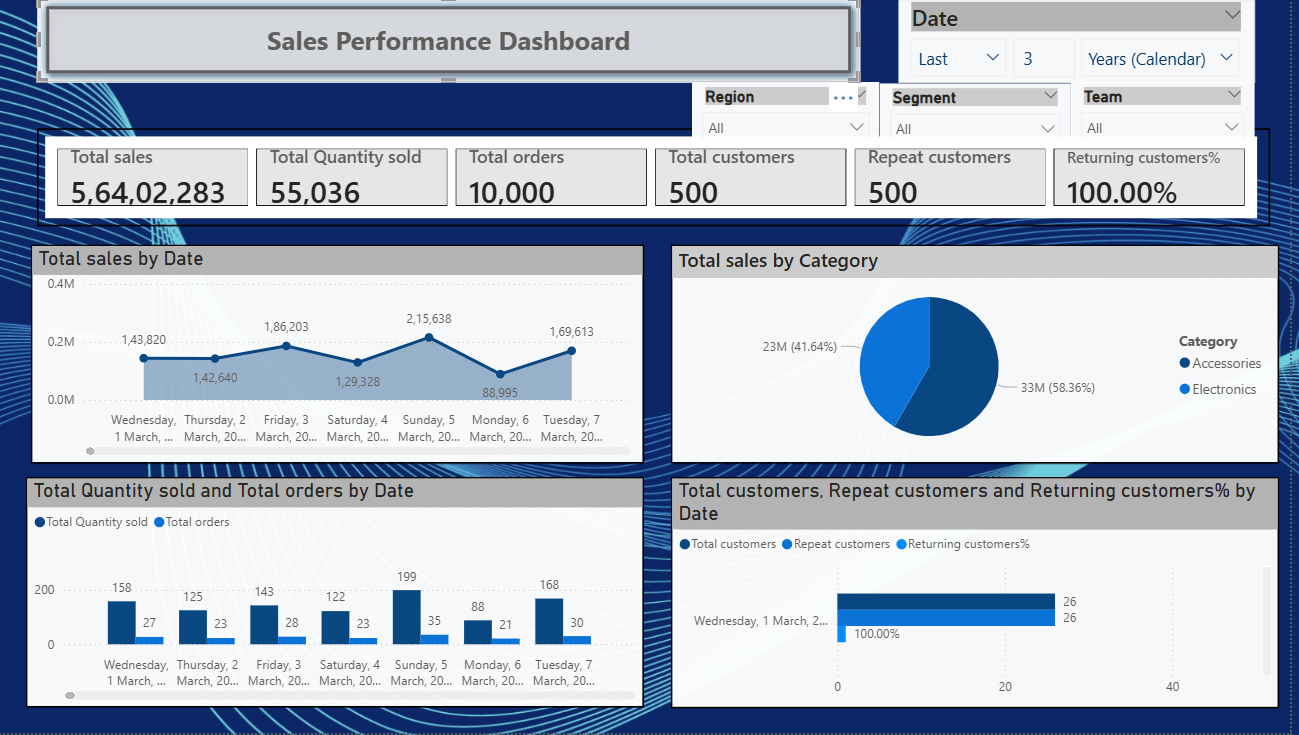

What the dashboard file says about the page in this screenshot:
{"tool":"powerbi","page":{"name":"Summary","canvas":[1280,720],"ordinal":0},"visuals":[{"type":"cardVisual","fields":{"Data":["_ All Measures.Total sales","_ All Measures.Total Quantity sold","_ All Measures.Total orders","_ All Measures.Total customers","_ All Measures.Repeat customers","_ All Measures.Returning customers%"]},"box":[53.5,129,1206.2,96.1],"z":0},{"type":"clusteredBarChart","fields":{"Category":["Calendar.Date"],"Y":["_ All Measures.Total customers","_ All Measures.Repeat customers","_ All Measures.Returning customers%"]},"box":[673.8,469.3,595.5,226.4],"z":1000},{"type":"slicer","fields":{"Values":["Calendar.Date"]},"box":[896.3,0,348.5,84.4],"z":2000},{"type":"clusteredColumnChart","fields":{"Category":["Calendar.Date"],"Y":["_ All Measures.Total Quantity sold","_ All Measures.Total orders"]},"box":[42.9,469.7,604.6,225.6],"z":3000},{"type":"slicer","fields":{"Values":["SalesData.Region"]},"box":[694.6,83.2,183.4,55],"z":4000},{"type":"lineChart","fields":{"Category":["Calendar.Date"],"Y":["_ All Measures.Total sales"]},"box":[48,241.5,599.7,214.1],"z":5000},{"type":"slicer","fields":{"Values":["SalesData.Team"]},"box":[1064.8,83.7,179.8,54.9],"z":6000},{"type":"slicer","fields":{"Values":["SalesData.Segment"]},"box":[878,84.4,187.1,53.8],"z":7000},{"type":"actionButton","box":[53.5,0,805.5,83.7],"z":8000},{"type":"pieChart","fields":{"Y":["_ All Measures.Total sales"],"Category":["SalesData.Category"]},"box":[673.8,241.5,595.5,214.1],"z":9000}]}

Visuals, with their boxes in screenshot pixels (x1, y1, x2, y2), scaled from the page's 1280x720 canvas onto the 1299x735 screenshot:
cardVisual - _ All Measures.Total sales x _ All Measures.Total Quantity sold: (left=54, top=132, right=1278, bottom=230)
clusteredBarChart - Calendar.Date x _ All Measures.Total customers: (left=684, top=479, right=1288, bottom=710)
slicer - Calendar.Date: (left=910, top=0, right=1263, bottom=86)
clusteredColumnChart - Calendar.Date x _ All Measures.Total Quantity sold: (left=44, top=479, right=657, bottom=710)
slicer - SalesData.Region: (left=705, top=85, right=891, bottom=141)
lineChart - Calendar.Date x _ All Measures.Total sales: (left=49, top=247, right=657, bottom=465)
slicer - SalesData.Team: (left=1081, top=85, right=1263, bottom=141)
slicer - SalesData.Segment: (left=891, top=86, right=1081, bottom=141)
actionButton: (left=54, top=0, right=872, bottom=85)
pieChart - _ All Measures.Total sales x SalesData.Category: (left=684, top=247, right=1288, bottom=465)
